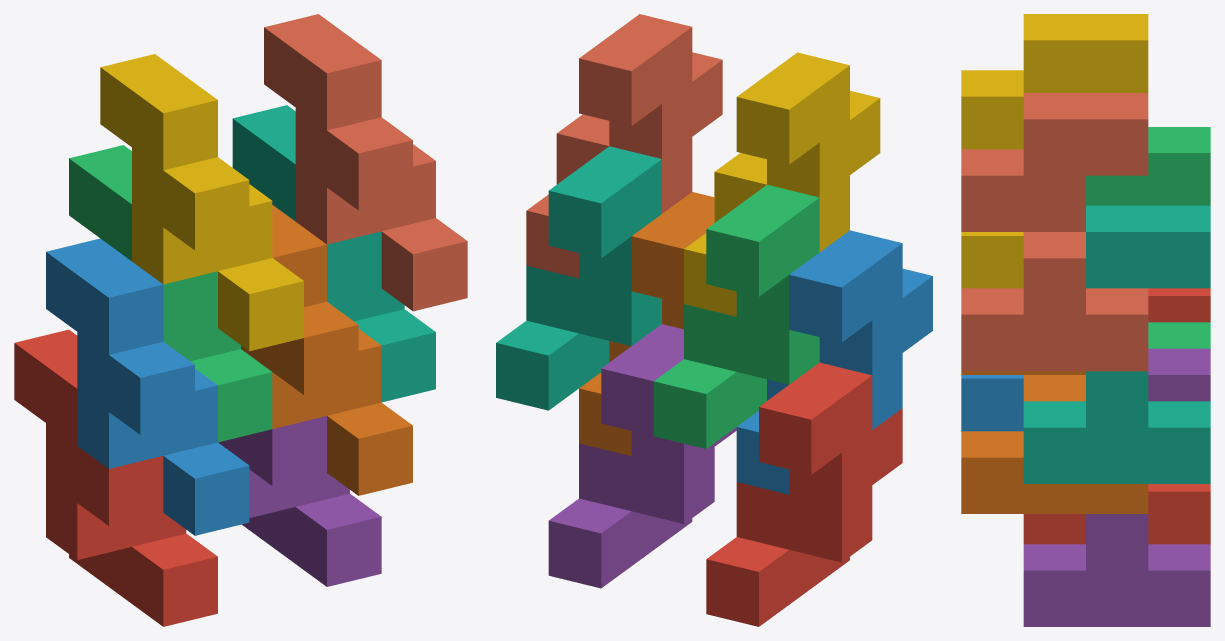
Rendered from tiling.obj.
3 views of the same model, side by side, from view 1: azimuth 30°, elevation 25°; view 2: azimuth 150°, elevation 25°; view 3: azimuth 270°, elevation 25° (orthographic). The views are drawn at different scales.
Parts seen in each view (by area): view 1: copy_1_domain_8, copy_1_domain_2, copy_1_domain_4, copy_1_domain_1, copy_1_domain_6, copy_1_domain_5, copy_1_domain_3, copy_1_domain_7; view 2: copy_1_domain_1, copy_1_domain_3, copy_1_domain_7, copy_1_domain_5, copy_1_domain_4, copy_1_domain_8, copy_1_domain_2, copy_1_domain_6; view 3: copy_1_domain_8, copy_1_domain_7, copy_1_domain_5, copy_1_domain_4, copy_1_domain_6, copy_1_domain_3, copy_1_domain_1, copy_1_domain_2.
Part boxes in pixels (<box>): copy_1_domain_8: <box>264,14,467,311</box>; copy_1_domain_2: <box>46,238,249,535</box>; copy_1_domain_4: <box>100,54,303,351</box>; copy_1_domain_1: <box>14,329,217,626</box>; copy_1_domain_6: <box>241,205,412,495</box>; copy_1_domain_5: <box>218,416,381,586</box>; copy_1_domain_3: <box>69,145,272,442</box>; copy_1_domain_7: <box>232,105,435,402</box>; copy_1_domain_1: <box>706,362,902,626</box>; copy_1_domain_3: <box>653,184,819,448</box>; copy_1_domain_7: <box>496,146,661,410</box>; copy_1_domain_5: <box>548,324,736,588</box>; copy_1_domain_4: <box>684,52,880,316</box>; copy_1_domain_8: <box>526,14,722,278</box>; copy_1_domain_2: <box>736,230,932,494</box>; copy_1_domain_6: <box>579,192,714,456</box>; copy_1_domain_8: <box>961,93,1148,371</box>; copy_1_domain_7: <box>1023,205,1210,483</box>; copy_1_domain_5: <box>1023,348,1210,626</box>; copy_1_domain_4: <box>961,14,1148,288</box>; copy_1_domain_6: <box>961,371,1148,513</box>; copy_1_domain_3: <box>1086,127,1210,348</box>; copy_1_domain_1: <box>1023,288,1210,544</box>; copy_1_domain_2: <box>961,375,1023,431</box>.
Size of the model in its own units: 6 by 9 by 4.
